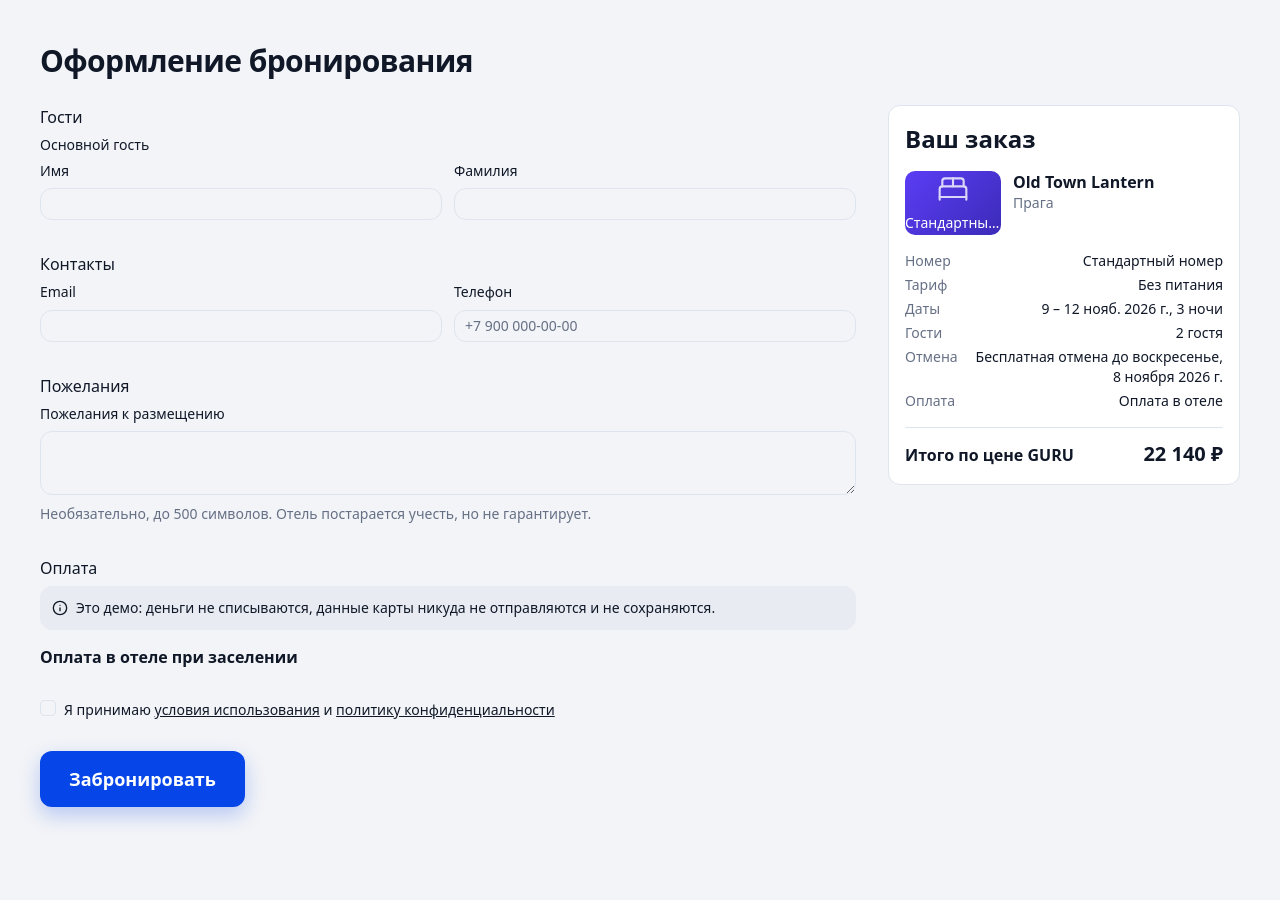
Test: BookingPage form › shows errors and focuses the first invalid field on an empty form
Click the button "Забронировать" at (142,779), box [40,751,245,807]
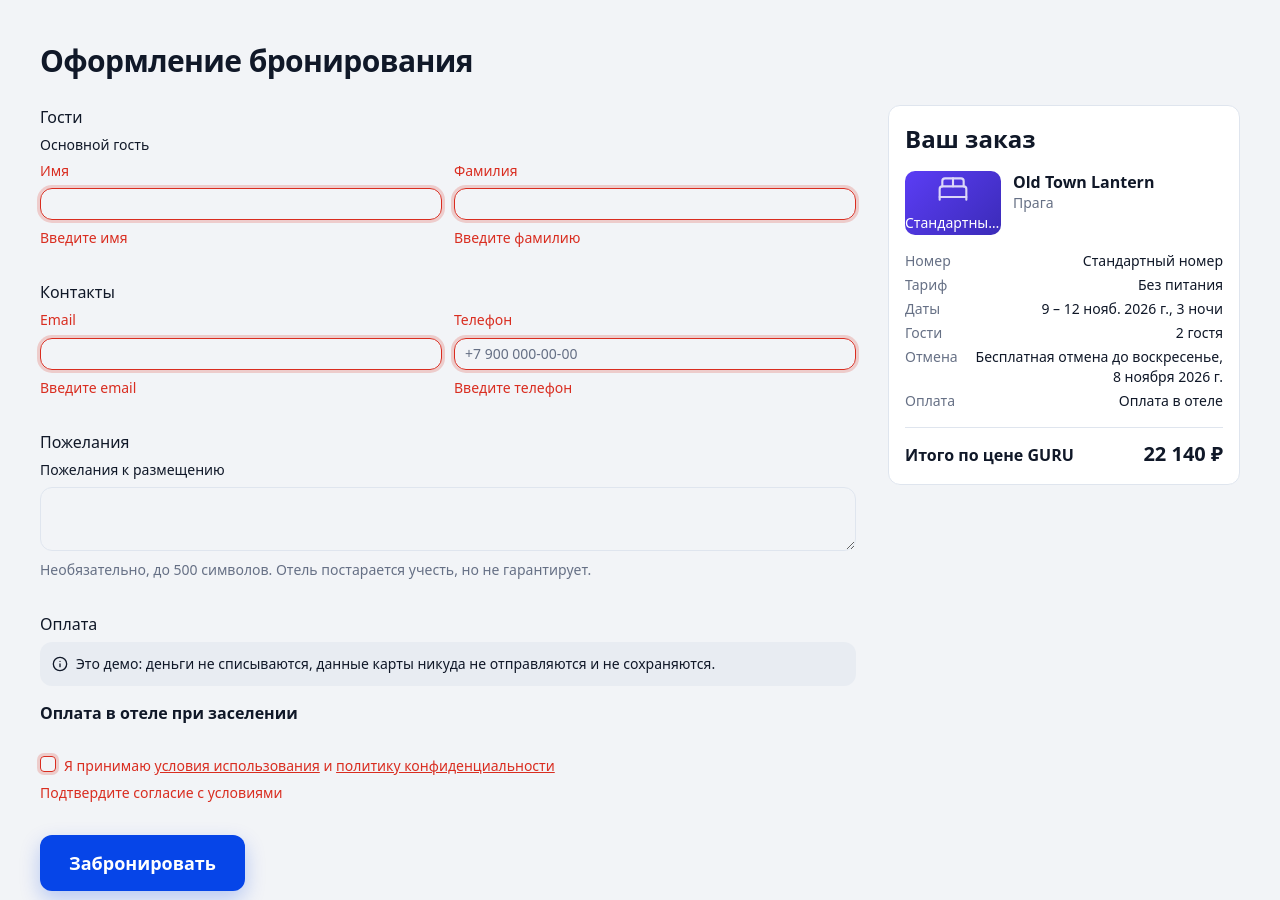
Expected: the text "Введите имя" is shown, [40,228,128,247]
Expected: the text "Введите фамилию" is shown, [454,228,580,247]
Expected: the text "Введите email" is shown, [40,378,136,396]
